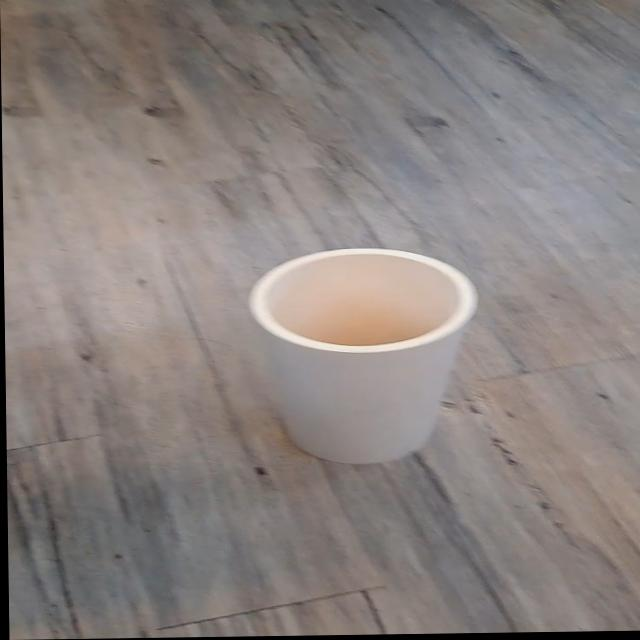CORAL: (226, 231, 535, 482)
